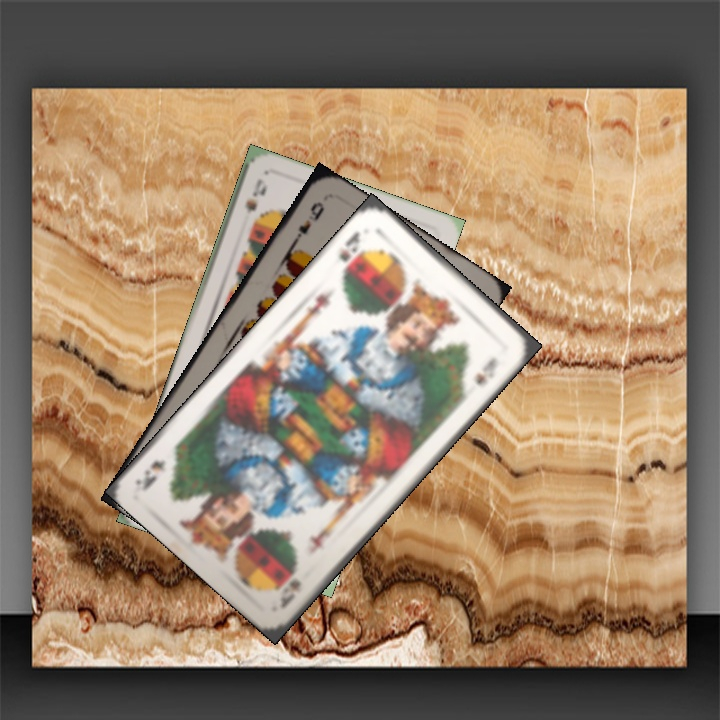E9: (288, 197, 327, 248)
S9: (241, 174, 270, 217)
SK: (275, 574, 304, 612), (334, 228, 363, 265)
